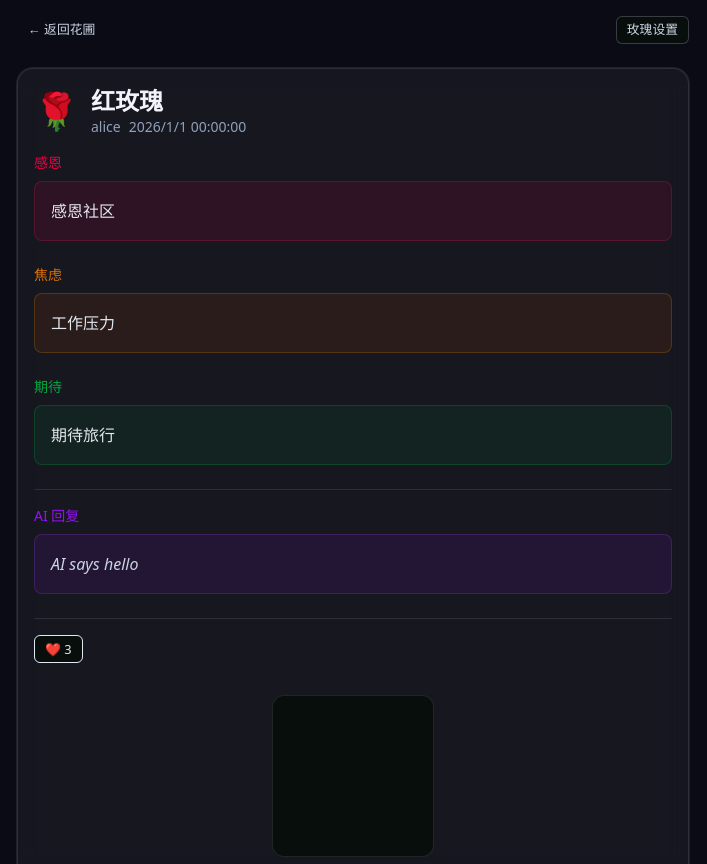
Test case: RoseDetailPage › should open rose settings
Click the button "玫瑰设置" at (652, 30), box 616,16 -> 689,44
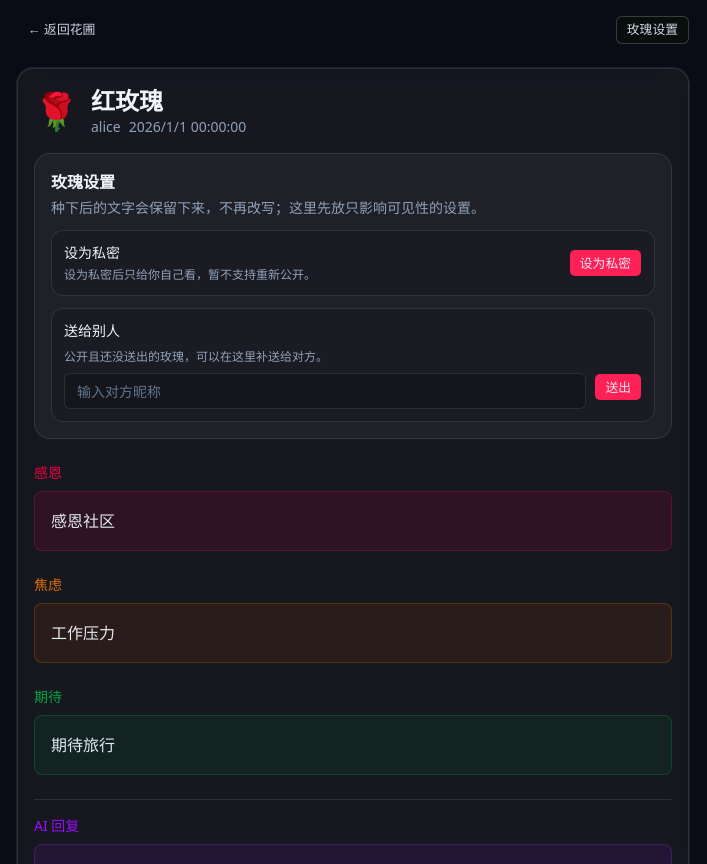
expect the text "种下后的文字会保留下来，不再改写；这里先放只影响可见性的设置。" is shown: met, box 51,198 -> 485,217
expect the button "设为私密" is shown: met, box 569,249 -> 642,277
expect the text "送给别人" is shown: met, box 64,321 -> 120,340
